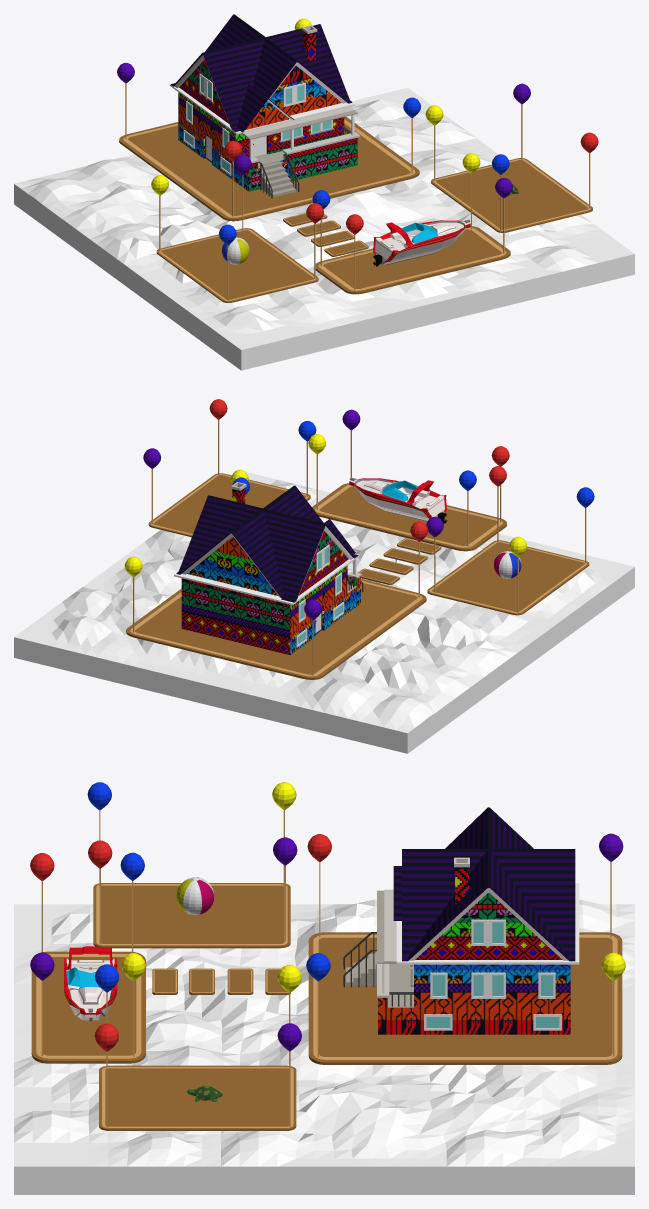
3 renders of one model, top to bottom at view 1: azimuth 30°, elevation 25°; view 2: azimuth 150°, elevation 25°; view 3: azimuth 270°, elevation 25°, orthographic. The views are drawn at different scales.
Parts seen in each view (by area): view 1: Cube.013, Cube.966, VEHICLES_BOAT, OBJRANDOM_BEACHBALL; view 2: Cube.013, Cube.966, VEHICLES_BOAT, OBJRANDOM_BEACHBALL; view 3: Cube.013, Cube.966, VEHICLES_BOAT, OBJRANDOM_BEACHBALL.
Part boxes in pixels (box(x1,y1,x2,y2)): Cube.013: box(14, 18, 634, 370); Cube.966: box(169, 14, 360, 198); VEHICLES_BOAT: box(373, 219, 470, 266); OBJRANDOM_BEACHBALL: box(222, 237, 249, 264); Cube.013: box(14, 399, 634, 753); Cube.966: box(174, 482, 363, 655); VEHICLES_BOAT: box(349, 477, 447, 523); OBJRANDOM_BEACHBALL: box(494, 551, 521, 578); Cube.013: box(14, 782, 634, 1194); Cube.966: box(343, 807, 579, 1034); VEHICLES_BOAT: box(64, 946, 117, 1021); OBJRANDOM_BEACHBALL: box(176, 877, 213, 915).
Size of the model in its own units: 4000 by 1704 by 4000.
39 materials, 5 textured.
